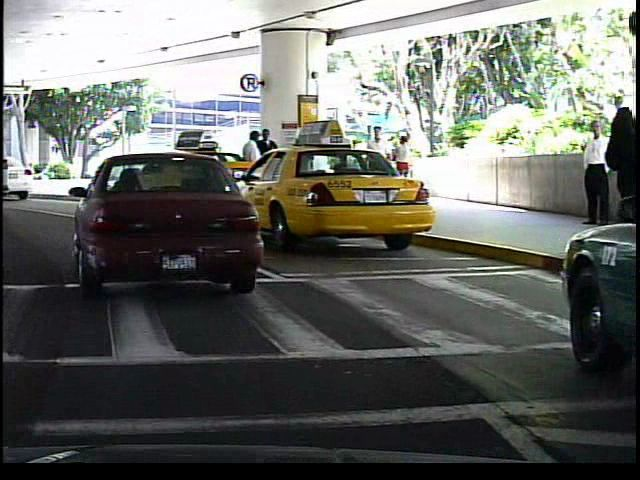person: (598, 99, 639, 259), (569, 112, 606, 231), (361, 118, 395, 204), (235, 127, 266, 207), (387, 130, 414, 196), (257, 126, 278, 203)
